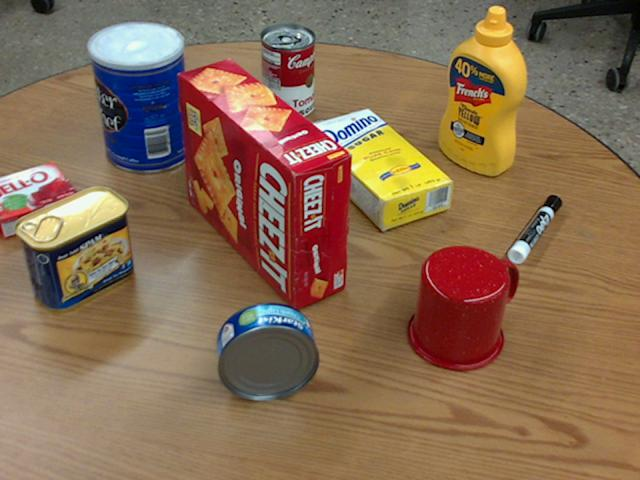cracker_box: (177, 59, 351, 308)
gelatin_box: (0, 161, 79, 235)
large_marker: (508, 195, 562, 263)
master_chef_can: (88, 22, 190, 172)
mug: (406, 244, 517, 369)
mustard_bottle: (439, 7, 526, 174)
potted_meat_can: (14, 185, 131, 309)
sugar_box: (305, 108, 452, 229)
tomato_soup_can: (260, 23, 315, 119)
tuna_fish_can: (217, 302, 320, 399)
